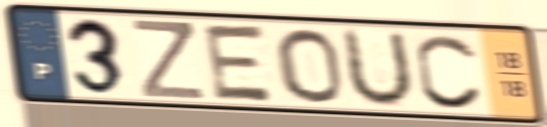3: (65, 14, 135, 98)
C: (413, 31, 487, 112)
E: (201, 21, 278, 105)
O: (271, 25, 347, 106)
U: (340, 25, 417, 111)
Z: (129, 17, 208, 102)
